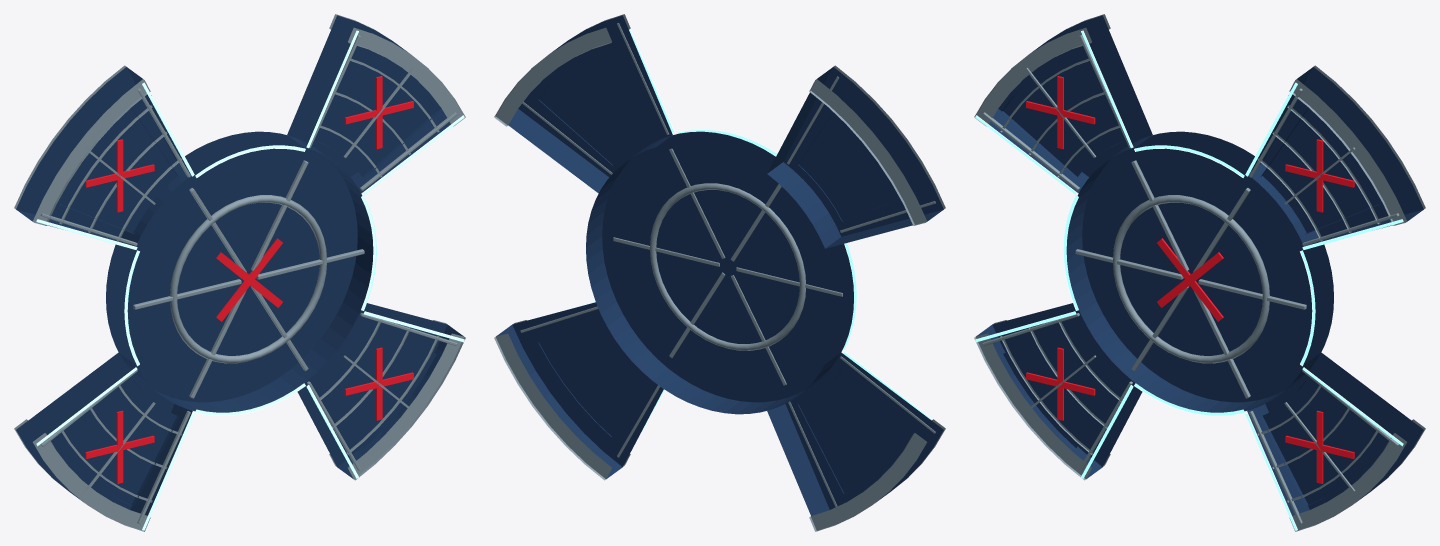
Rendered from foundry-panel-fun6-high.glb.
3 views of the same model, side by side, from view 1: azimuth 30°, elevation 25°; view 2: azimuth 150°, elevation 25°; view 3: azimuth 330°, elevation 25° (orthographic).
Parts seen in each view (by area): view 1: RENDER_PANEL_SHELL, RENDER_PANEL_FRAME, RENDER_PANEL_HAZARD, RENDER_PANEL_SIGNAL; view 2: RENDER_PANEL_SHELL, RENDER_PANEL_FRAME, RENDER_PANEL_SIGNAL; view 3: RENDER_PANEL_SHELL, RENDER_PANEL_FRAME, RENDER_PANEL_HAZARD, RENDER_PANEL_SIGNAL.
Part boxes in pixels (x1=…): RENDER_PANEL_SHELL: x1=16, y1=15, x2=463, y2=515; RENDER_PANEL_FRAME: x1=14, y1=14, x2=465, y2=531; RENDER_PANEL_HAZARD: x1=85, y1=76, x2=413, y2=483; RENDER_PANEL_SIGNAL: x1=36, y1=30, x2=464, y2=530; RENDER_PANEL_SHELL: x1=496, y1=15, x2=943, y2=515; RENDER_PANEL_FRAME: x1=494, y1=14, x2=945, y2=531; RENDER_PANEL_SIGNAL: x1=558, y1=29, x2=932, y2=445; RENDER_PANEL_SHELL: x1=976, y1=15, x2=1423, y2=515; RENDER_PANEL_FRAME: x1=974, y1=14, x2=1425, y2=531; RENDER_PANEL_HAZARD: x1=1026, y1=76, x2=1354, y2=483; RENDER_PANEL_SIGNAL: x1=975, y1=30, x2=1403, y2=530.
Size of what is drawn, in the model's own units: 36.84 by 36.84 by 3.09.
